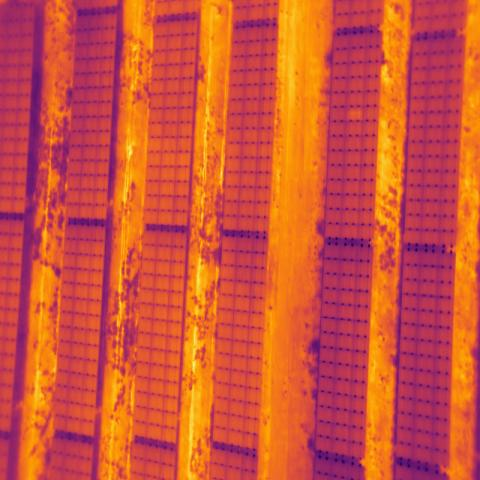fault: (346, 106, 364, 122)
